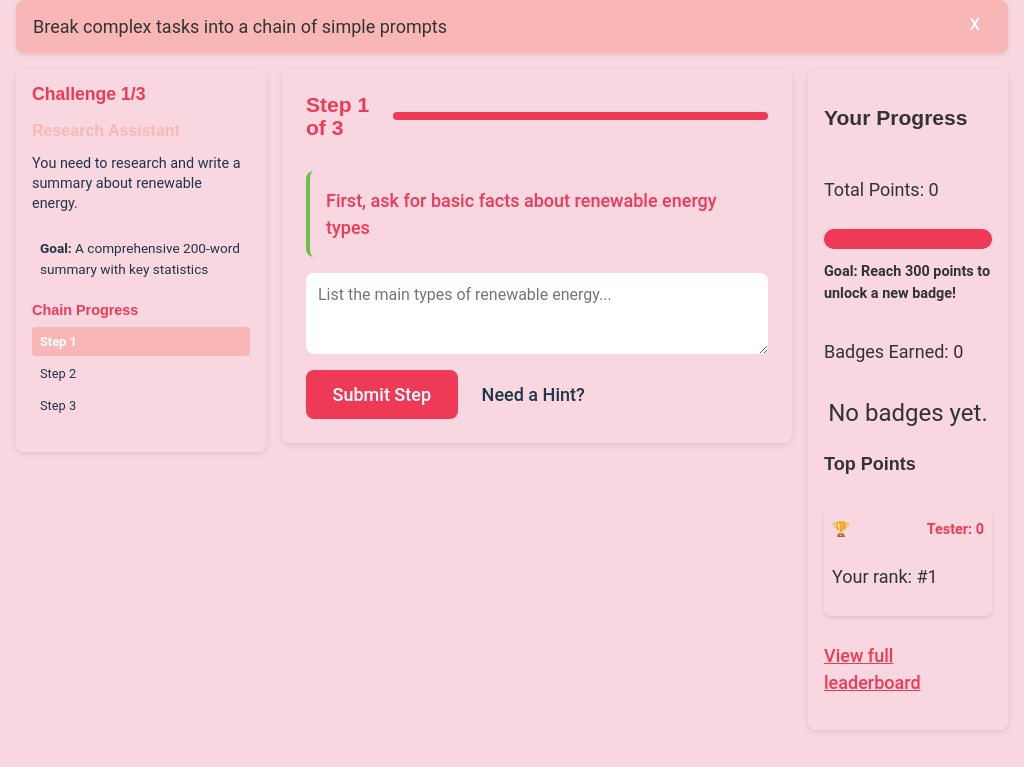
Test: PromptChainGame › shows hint when user clicks hint button
Click the button "Need a Hint?": click(533, 395) [466,376,601,413]
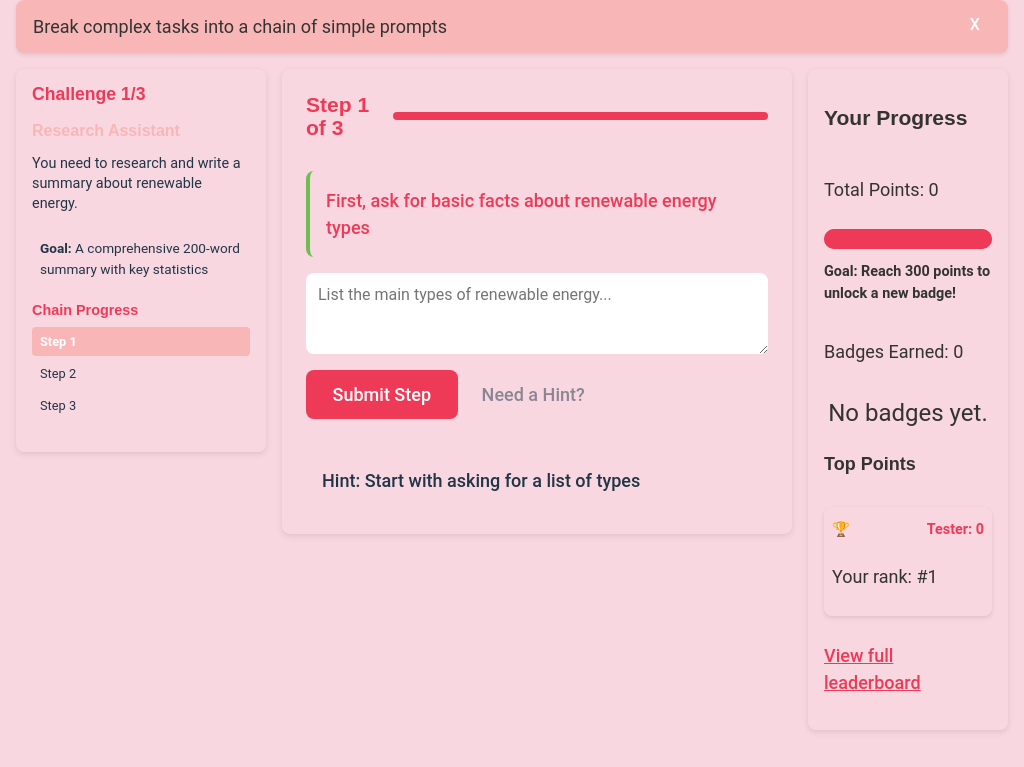
Now the text "Hint: Start with asking for a list of types" is shown, box [322,470,640,491]
